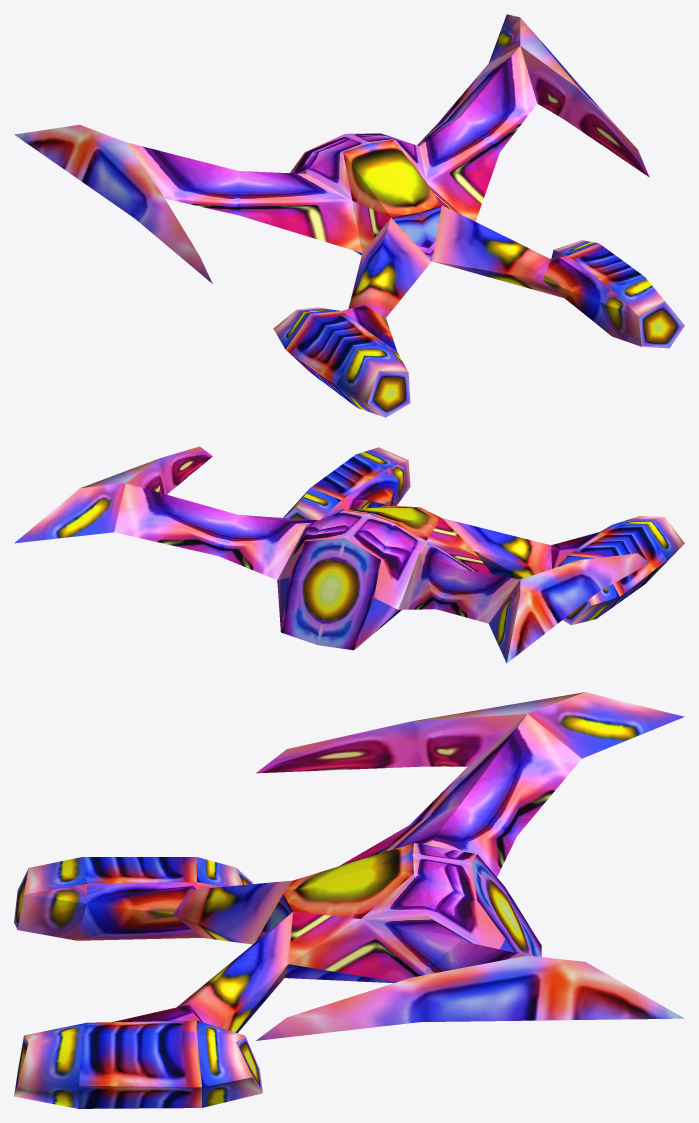
The model's file is ship-33.fbx.
The picture shows the model from 3 angles, top to bottom: view 1: azimuth 30°, elevation 25°; view 2: azimuth 150°, elevation 25°; view 3: azimuth 270°, elevation 25°; orthographic projection. The views are drawn at different scales.
Visible parts, largest first — view 1: ship-33; view 2: ship-33; view 3: ship-33.
Boxes of the visible parts, x1,y1,x2,y2 form: ship-33: (14,14,684,417); ship-33: (14,446,684,663); ship-33: (14,692,684,1108).
Size of the model in its own units: 70.28 by 21.03 by 66.02.
